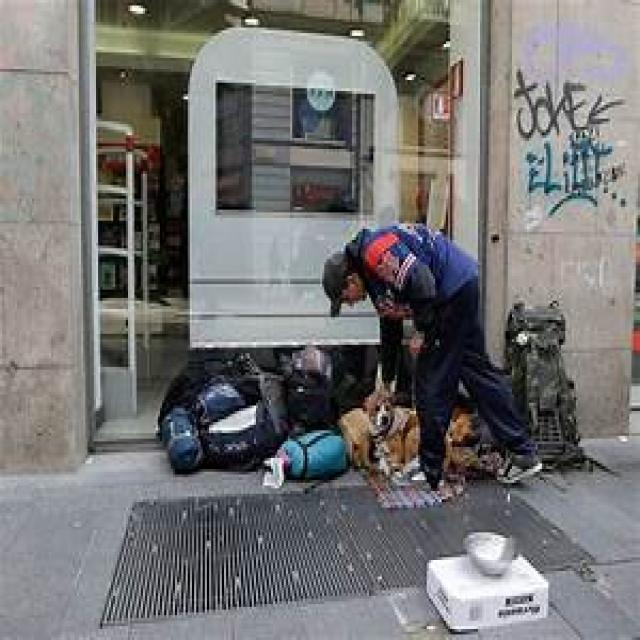dog: (343, 381, 420, 499)
